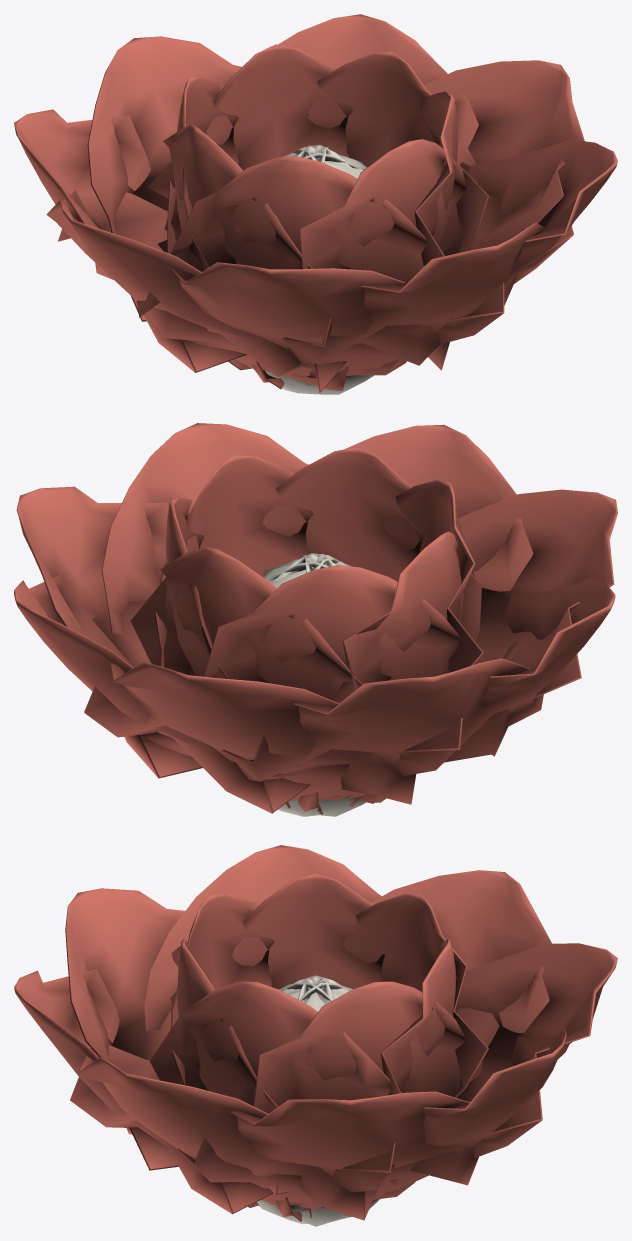
The model's file is food_lettuce.glb.
3 renders of one model, top to bottom at view 1: azimuth 30°, elevation 25°; view 2: azimuth 150°, elevation 25°; view 3: azimuth 270°, elevation 25°, orthographic. The views are drawn at different scales.
Visible parts, largest first — view 1: PART; view 2: PART; view 3: PART.
Boxes of the visible parts, box(x1,y1,x2,y2) form: PART: box(14, 14, 617, 394); PART: box(14, 423, 617, 816); PART: box(14, 845, 617, 1226).
Bounding box in the file's own units: 0.1738 × 0.0911 × 0.1738.
